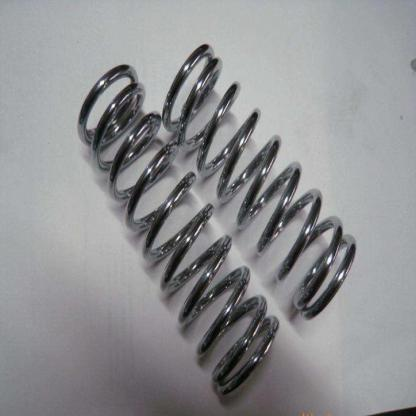FOD: (77, 59, 279, 399), (162, 41, 359, 320)
